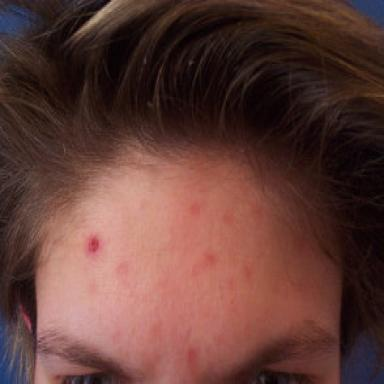acne: (87, 235, 100, 253), (117, 262, 128, 276), (187, 348, 196, 365), (205, 252, 217, 264), (190, 203, 200, 216), (242, 266, 251, 278), (223, 214, 233, 223)
